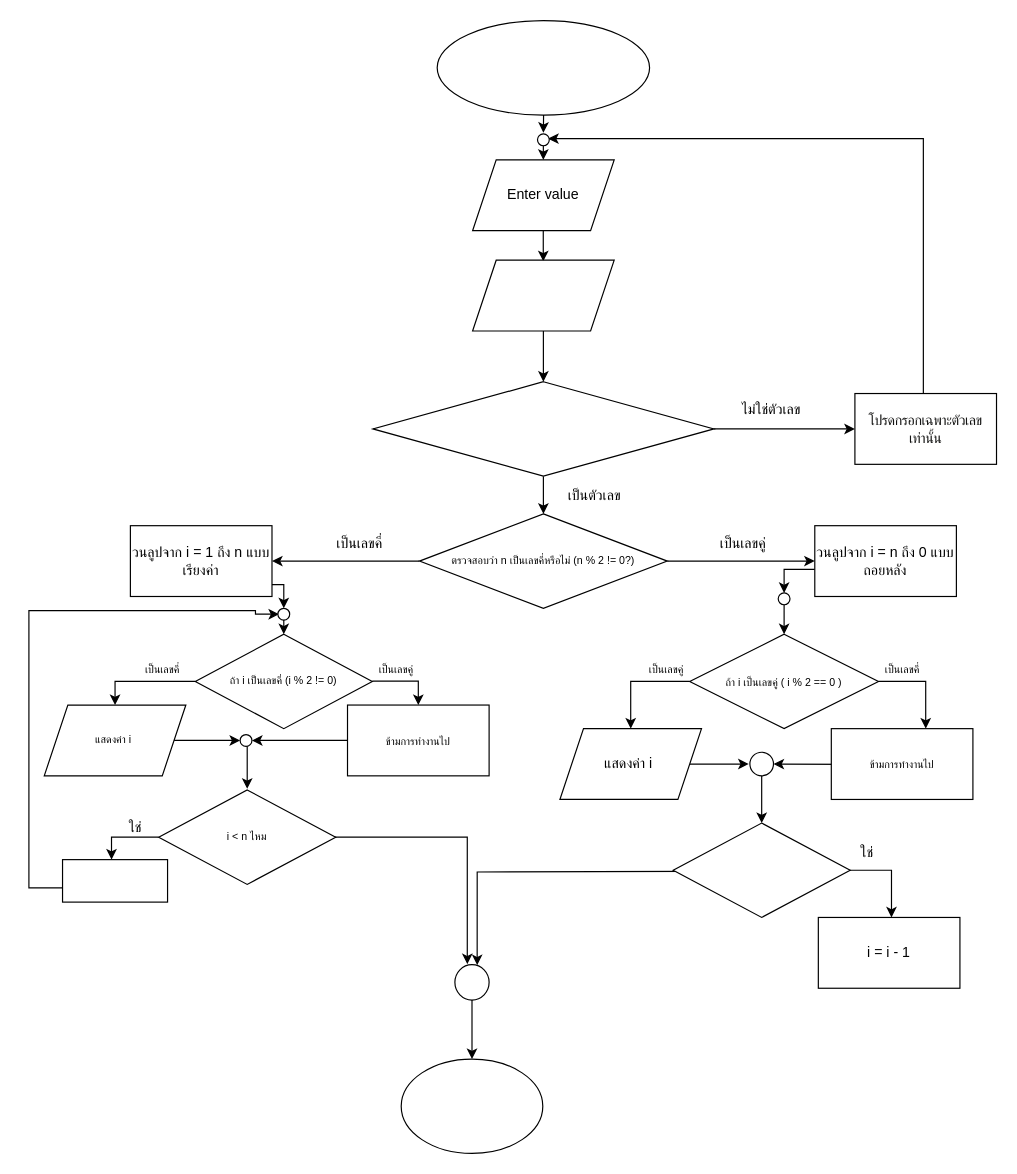
Image size: 1017x1174. Some labels were removed from this diagram. The shapes that lost their labels are listed below. From the top down, each one's centre as x and y in pixels, then its label:
At point (543, 67): "Start".
At point (542, 295): "int n".
At point (543, 428): "Check == 0 เป็นจริงไหม ถ้าเริ่มค่าที่ 1 = เป็นจริง ถ้าเป็นค่า 0 = เป็นเท็จ".
At point (114, 880): "i = i + 1".
At point (761, 869): "i > n ไหม".
At point (471, 1105): "Stop".
